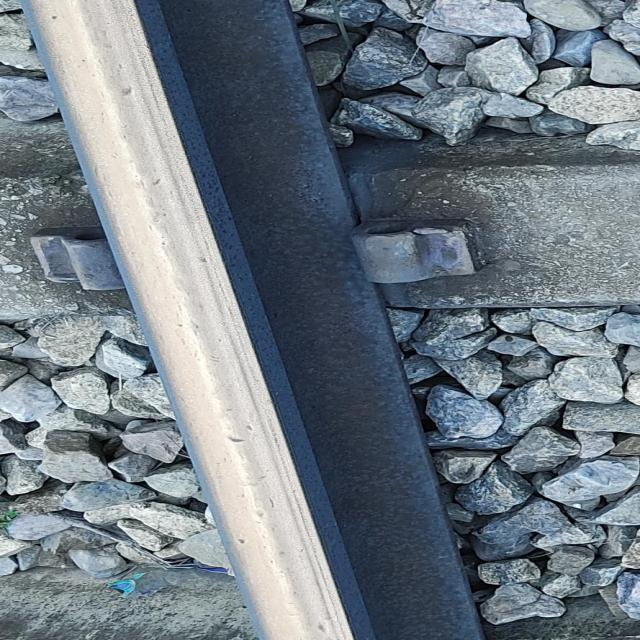Missing Fastener: (334, 202, 509, 302), (26, 228, 127, 306)
